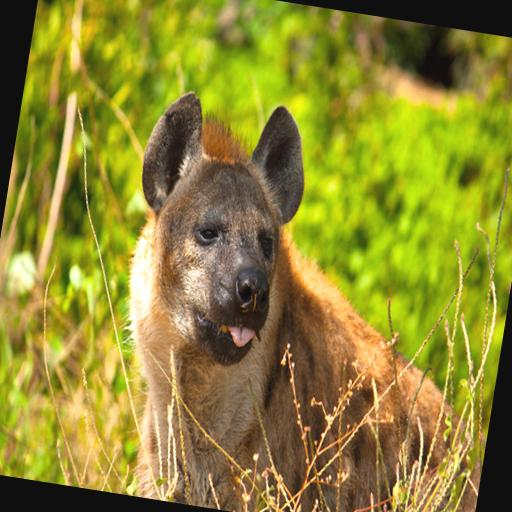hyenas: (62, 89, 435, 512)
